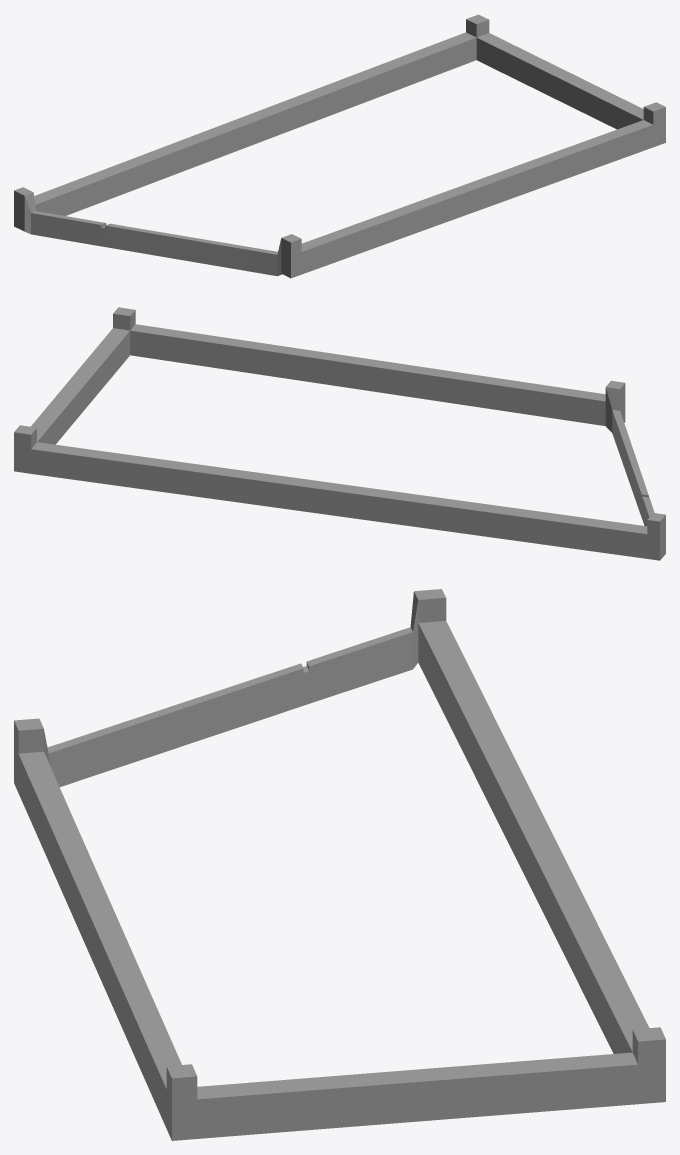
The model's file is pagar sekolah sepak bola.fbx.
3 renders of one model, top to bottom at view 1: azimuth 30°, elevation 25°; view 2: azimuth 150°, elevation 25°; view 3: azimuth 270°, elevation 25°, orthographic. The views are drawn at different scales.
Visible parts, largest first — view 1: Cube.150; view 2: Cube.150; view 3: Cube.150.
Part boxes in pixels (x1,y1,x2,y2): Cube.150: [14, 14, 665, 278]; Cube.150: [14, 307, 665, 560]; Cube.150: [14, 589, 665, 1140].
Size of the model in its own units: 8153 by 533 by 4590.
